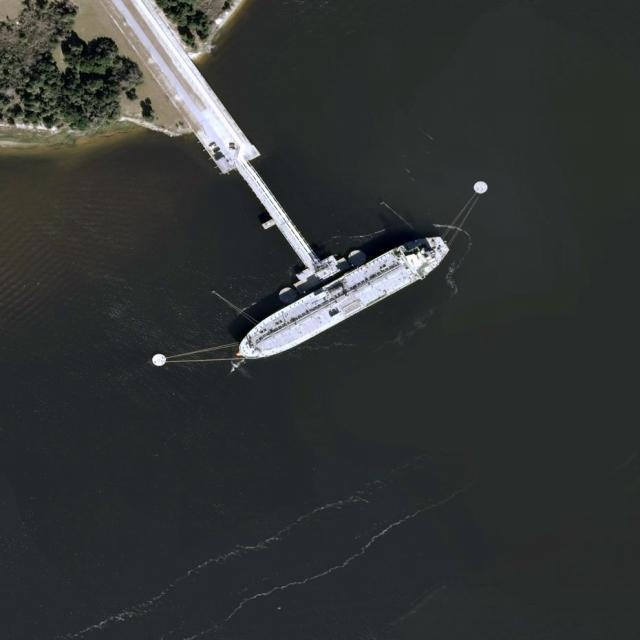Dock: (192, 107, 342, 292)
Oil Tanker: (226, 223, 457, 374)
